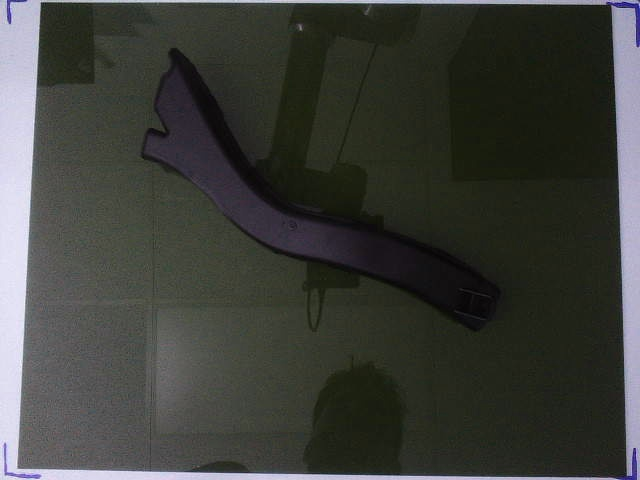887_B-Top: (142, 48, 501, 330)
